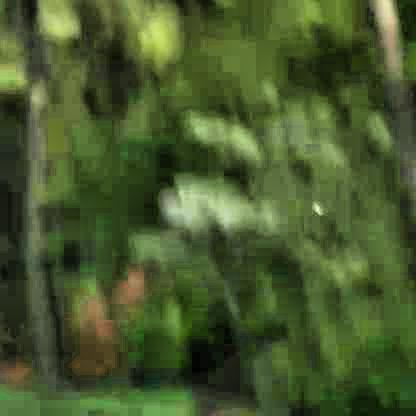golfball: (309, 199, 319, 210)
